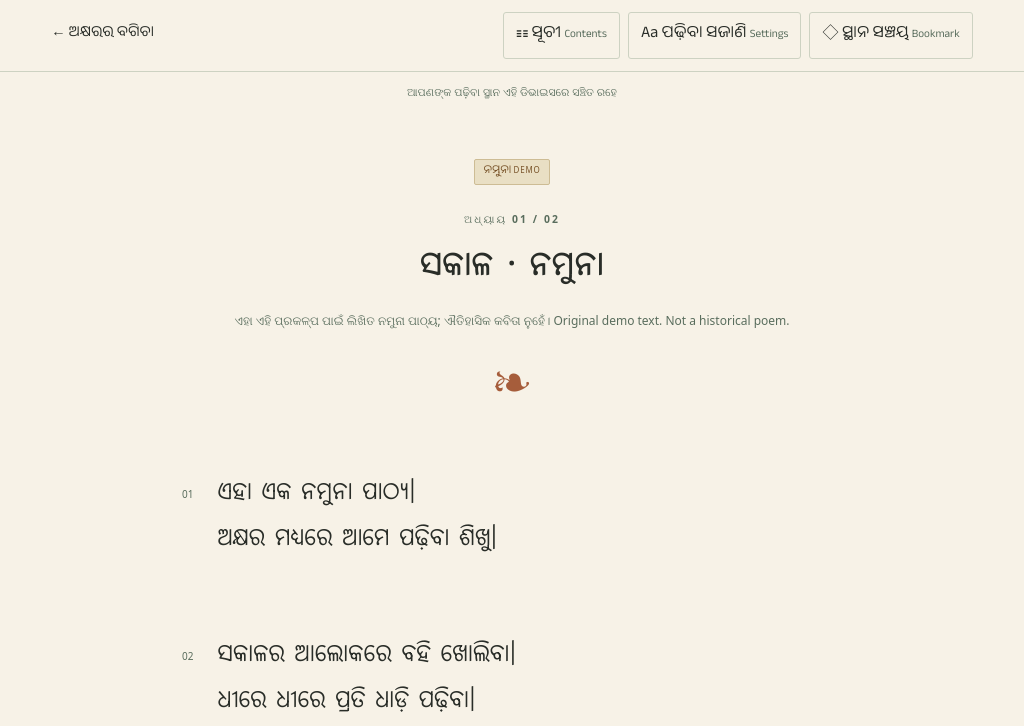
it: uses chapter hashes and ignores arrow navigation while adjusting a range
Click the button "Aa ପଢ଼ିବା ସଜାଣି Settings" at (715, 35), box x1=628 y1=12 x2=801 y2=59
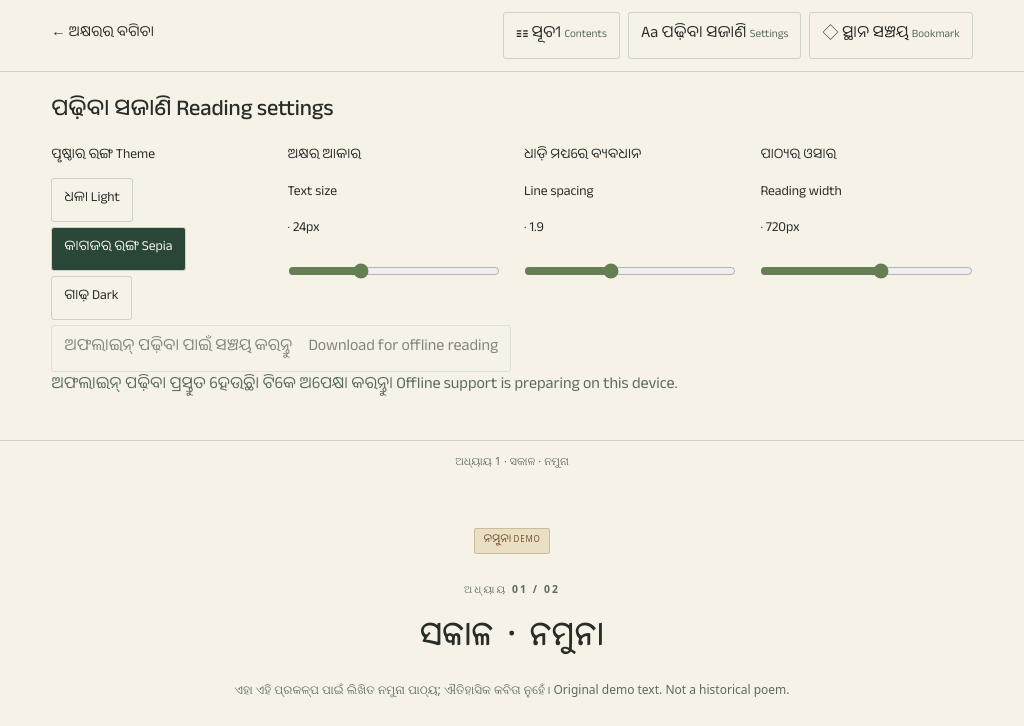
Set the slider labelled "ଅକ୍ଷର ଆକାର Text size · 24px" to "30" at (427, 271), box x1=288 y1=255 x2=500 y2=287
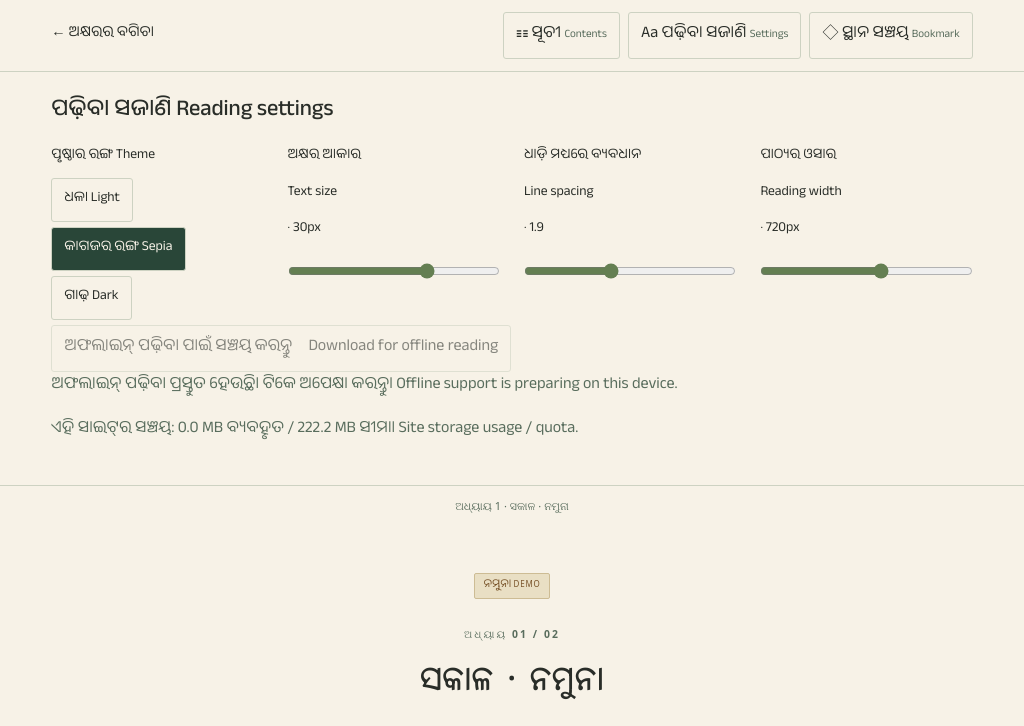
Press ArrowRight in the slider labelled "ଅକ୍ଷର ଆକାର Text size · 30px", box x1=288 y1=255 x2=500 y2=287
Press ArrowRight
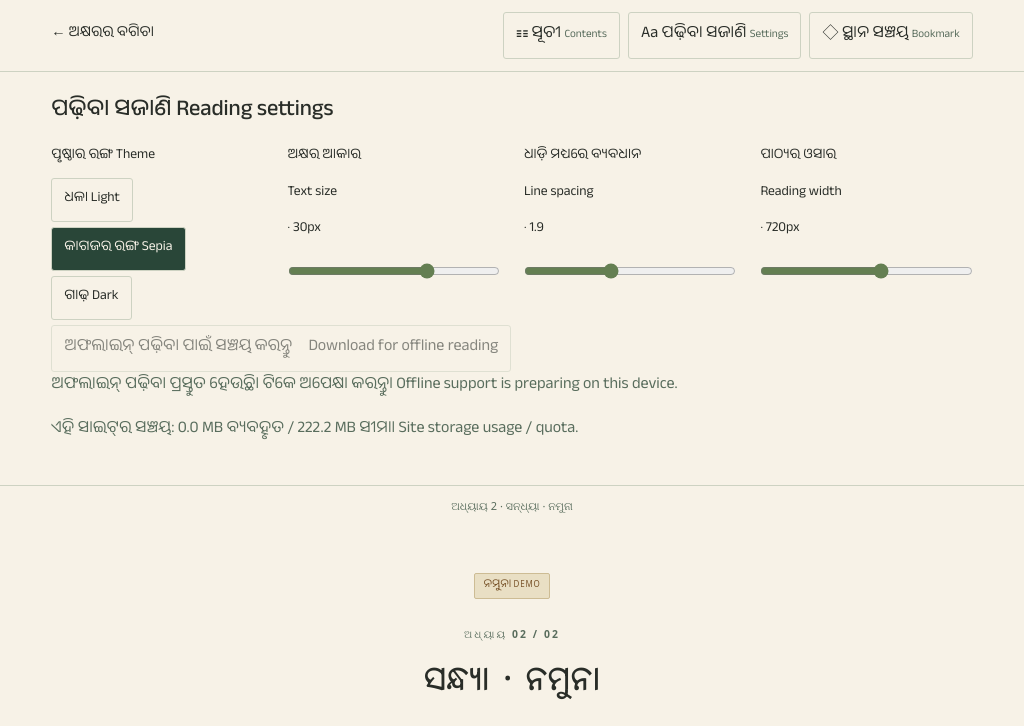
expect the heading "ସନ୍ଧ୍ୟା · ନମୁନା" is shown: met, box x1=424 y1=659 x2=600 y2=707
